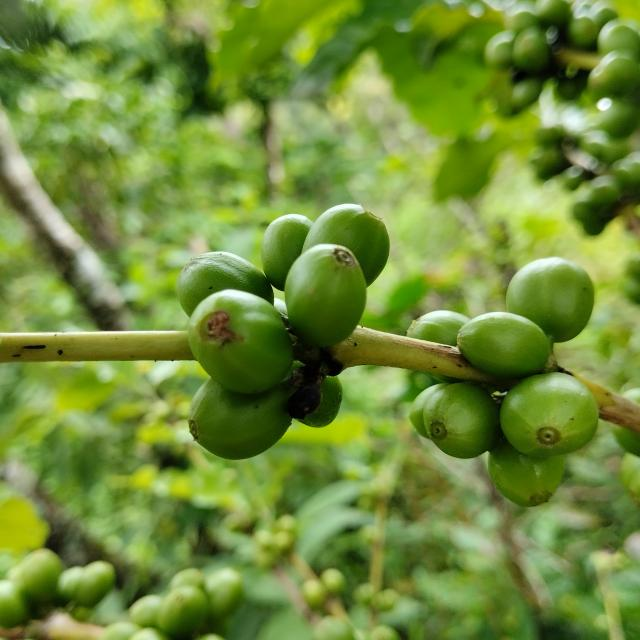green: (187, 289, 293, 394), (284, 244, 367, 347), (188, 379, 292, 460), (501, 373, 600, 458), (507, 257, 595, 342), (302, 203, 390, 286), (177, 251, 274, 316), (458, 312, 552, 379), (424, 383, 503, 459), (489, 440, 565, 508), (261, 214, 314, 291), (299, 376, 343, 428), (407, 310, 470, 346), (409, 384, 449, 439)
